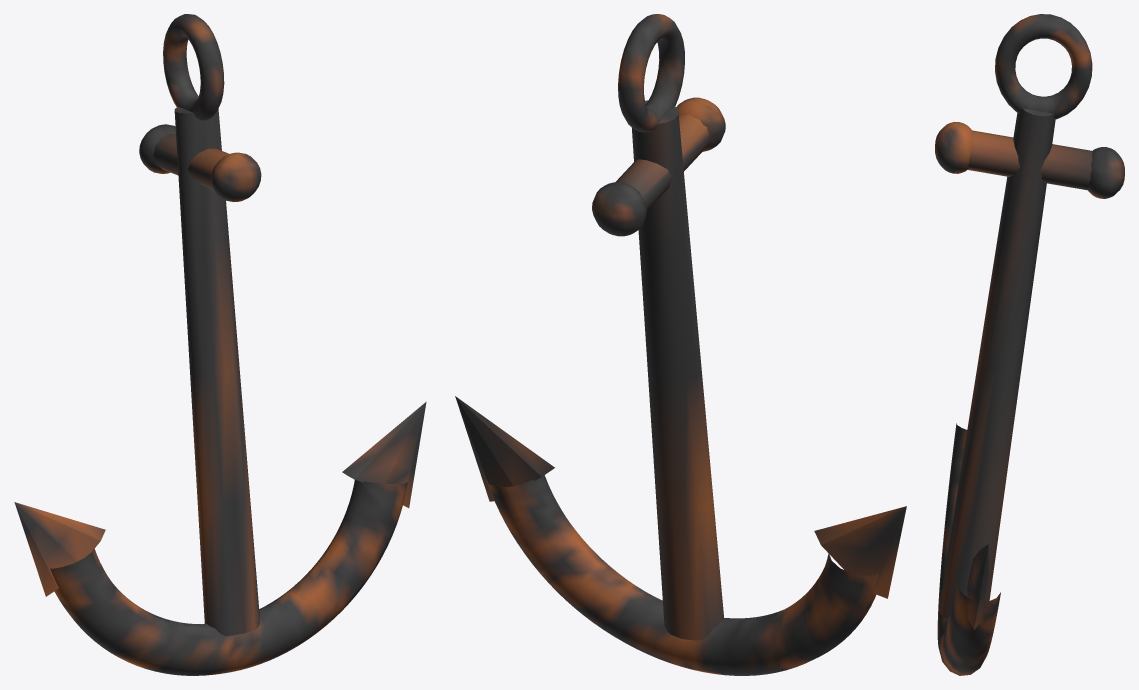
File: anchor.glb
3 views of the same model, side by side, from view 1: azimuth 30°, elevation 25°; view 2: azimuth 150°, elevation 25°; view 3: azimuth 270°, elevation 25° (orthographic). The views are drawn at different scales.
Parts seen in each view (by area): view 1: anchor-body; view 2: anchor-body; view 3: anchor-body.
Part boxes in pixels (x1,y1,x2,y2): anchor-body: (14,14,426,675); anchor-body: (455,14,906,675); anchor-body: (935,14,1124,675).
Size of the model in its own units: 180 by 260 by 70.
